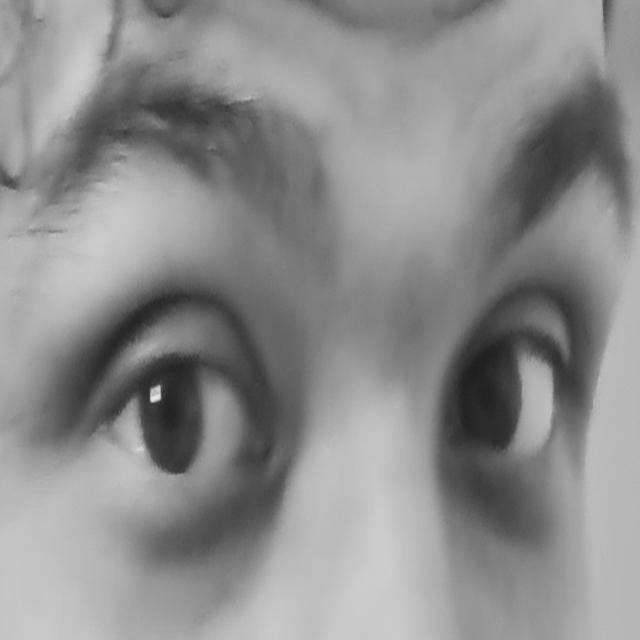real: (34, 160, 590, 564)
